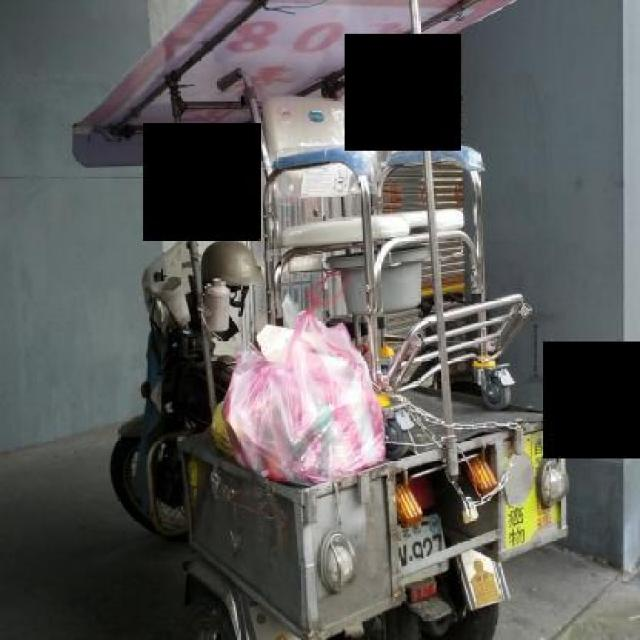plastic bag: (220, 294, 389, 484), (204, 392, 242, 466)
